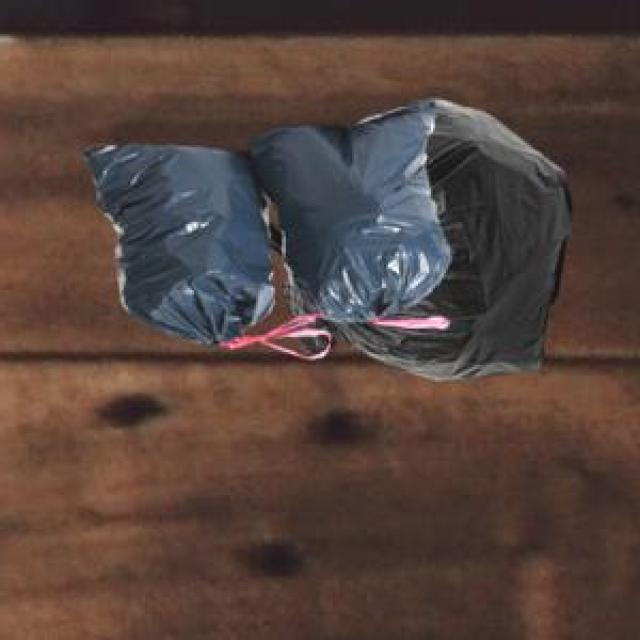Trashbag: (393, 98, 573, 380), (249, 102, 451, 330), (86, 147, 276, 347)
